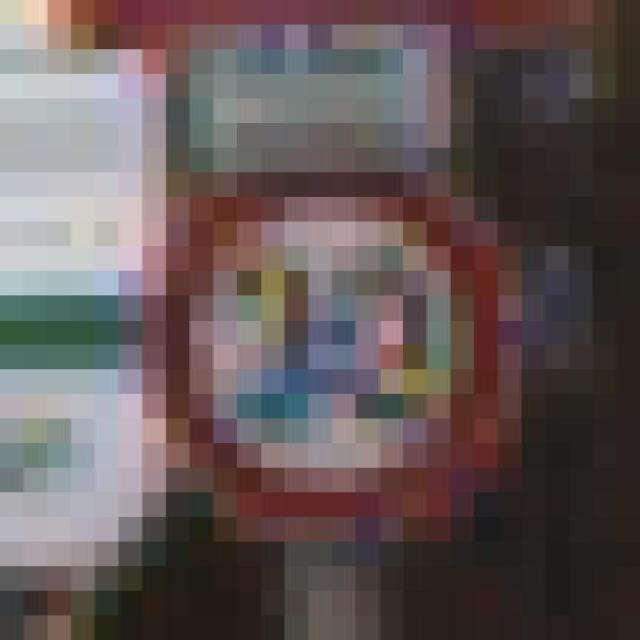Speed Limit 30 KMPh: (48, 173, 569, 542)
